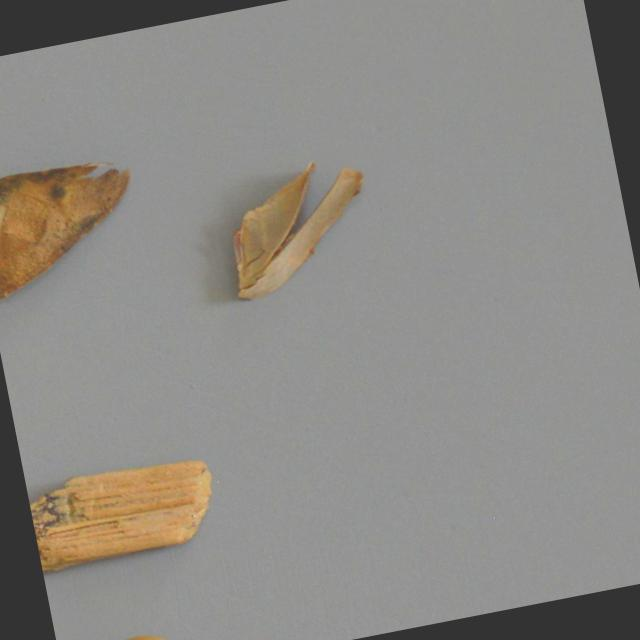cuerpos_extranos: (0, 141, 165, 352), (203, 142, 392, 310), (24, 439, 232, 580), (80, 618, 192, 640)
